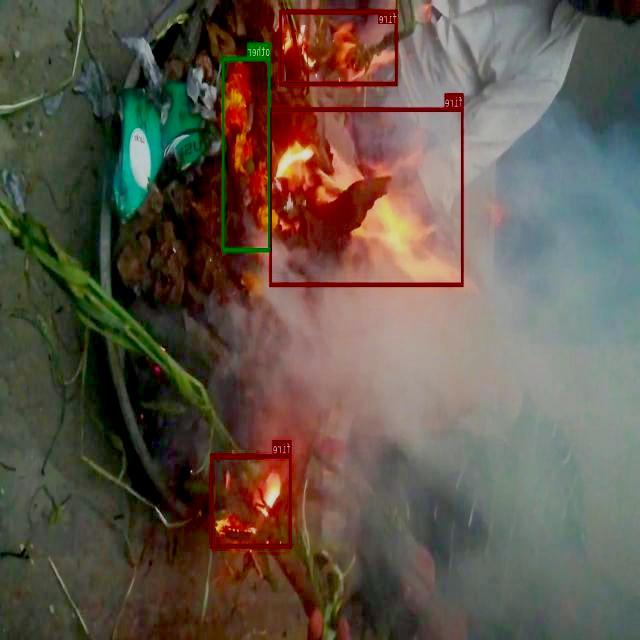fire: (270, 107, 464, 286), (280, 10, 398, 84), (211, 454, 292, 547)
